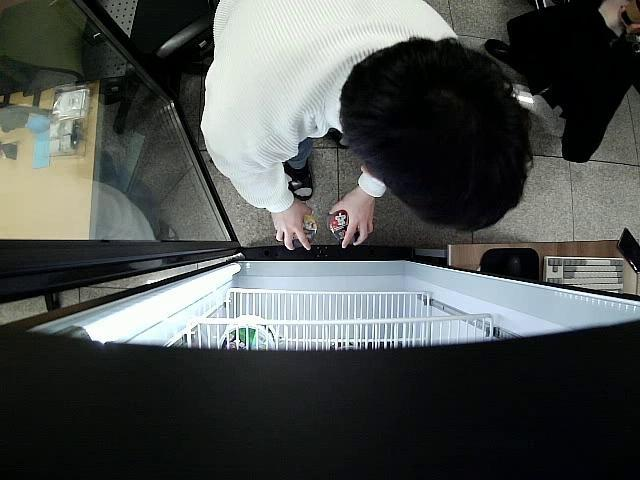08_buldak_S: (329, 210, 360, 242), (292, 214, 318, 246)
